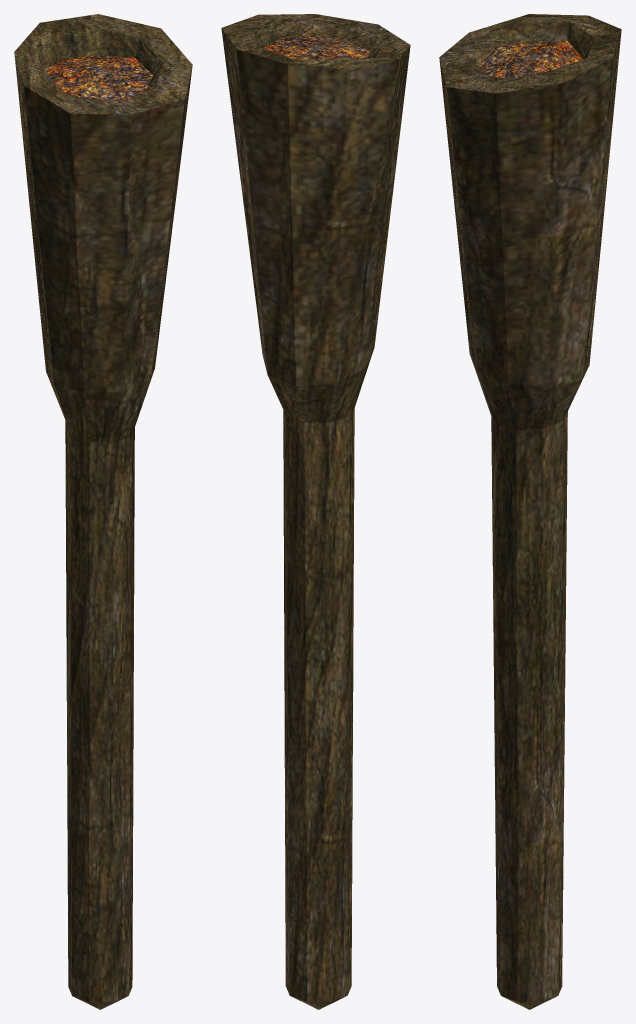
Rendered from thm_endr_tiki_torch_s01_l0_torch.fbx.
3 views of the same model, side by side, from view 1: azimuth 30°, elevation 25°; view 2: azimuth 150°, elevation 25°; view 3: azimuth 270°, elevation 25° (orthographic). The views are drawn at different scales.
Parts seen in each view (by area): view 1: mesh_node; view 2: mesh_node; view 3: mesh_node.
Part boxes in pixels (<box>): mesh_node: <box>14,14,192,1009</box>; mesh_node: <box>221,14,410,1009</box>; mesh_node: <box>439,14,621,1009</box>.
Bounding box in the file's own units: 0.2625 × 1.56 × 0.2645.
2 materials, 2 textured.
